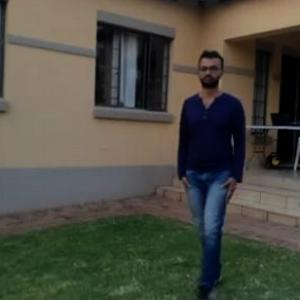follow: (176, 62, 242, 269)
